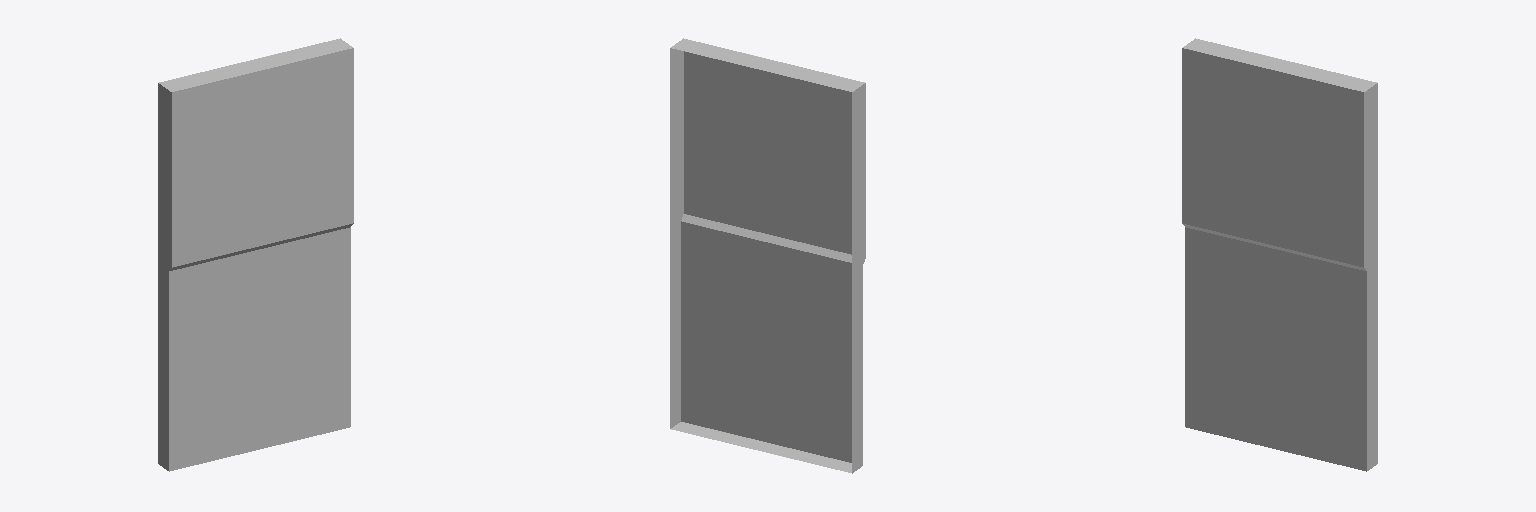
File: wall_modular_plain_kitchen_straight_A.obj
3 renders of one model, left to right at view 1: azimuth 30°, elevation 25°; view 2: azimuth 150°, elevation 25°; view 3: azimuth 330°, elevation 25°, orthographic.
Parts seen in each view (by area): view 1: wall_modular_plain_kitchen_straight_A; view 2: wall_modular_plain_kitchen_straight_A; view 3: wall_modular_plain_kitchen_straight_A.
Boxes of the visible parts, box(x1,y1,x2,y2) form: wall_modular_plain_kitchen_straight_A: box(158, 38, 353, 471); wall_modular_plain_kitchen_straight_A: box(670, 38, 865, 473); wall_modular_plain_kitchen_straight_A: box(1182, 38, 1377, 471).
Size of the model in its own units: 2 by 4 by 0.2506.